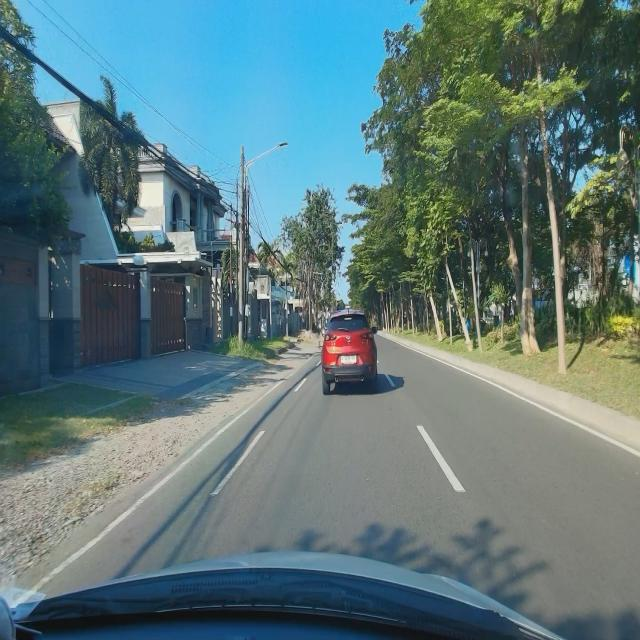car: (320, 308, 379, 397)
license-plate: (340, 354, 358, 365)
